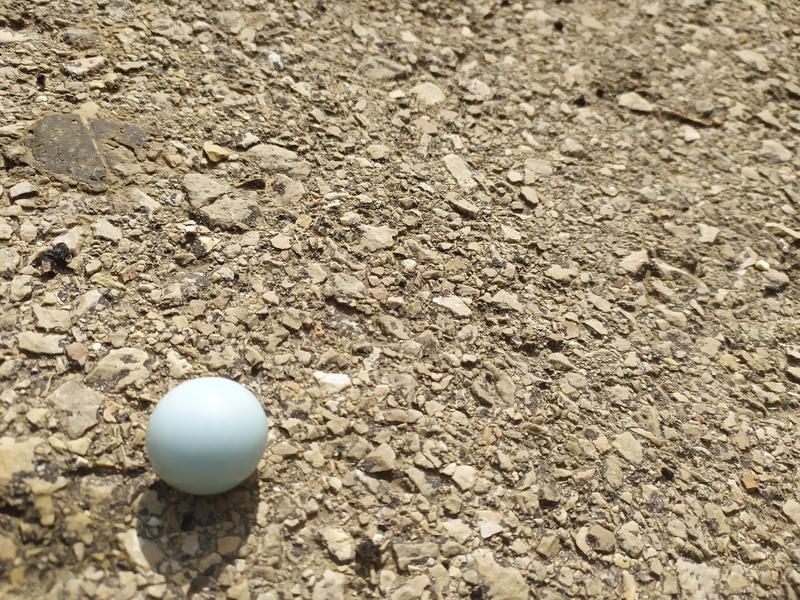Warning: (141, 372, 272, 500)
